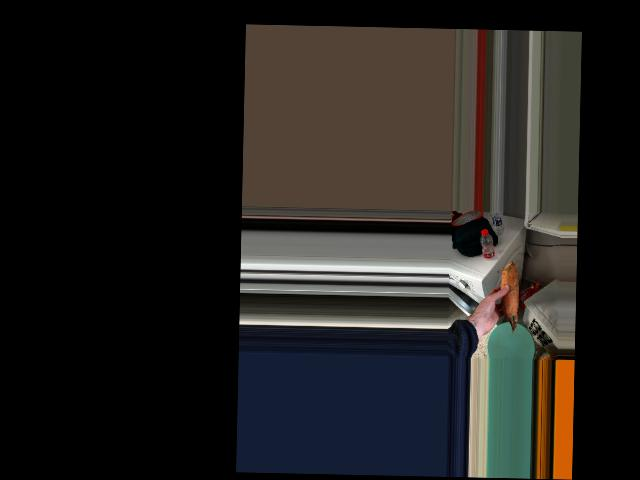sweet_potato: (495, 266, 520, 333)
